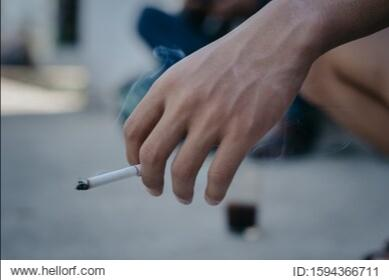Cigarette: (72, 164, 142, 190)
